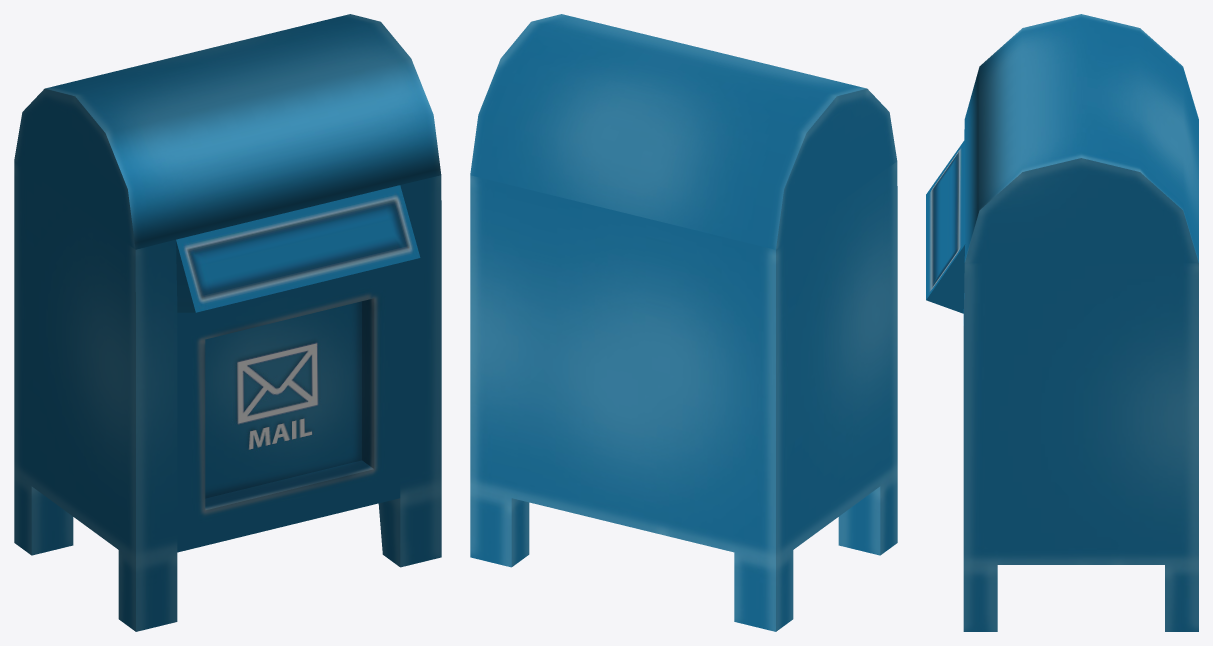
File: mail_box.FBX
3 views of the same model, side by side, from view 1: azimuth 30°, elevation 25°; view 2: azimuth 150°, elevation 25°; view 3: azimuth 270°, elevation 25° (orthographic). The views are drawn at different scales.
Visible parts, largest first — view 1: Object006; view 2: Object006; view 3: Object006.
Part boxes in pixels (x1,y1,x2,y2): Object006: [14, 14, 441, 631]; Object006: [470, 14, 897, 631]; Object006: [926, 14, 1198, 631].
Bounding box in the file's own units: 68.8 × 106 × 55.08.
